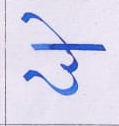e_matra: (24, 12, 71, 44)
